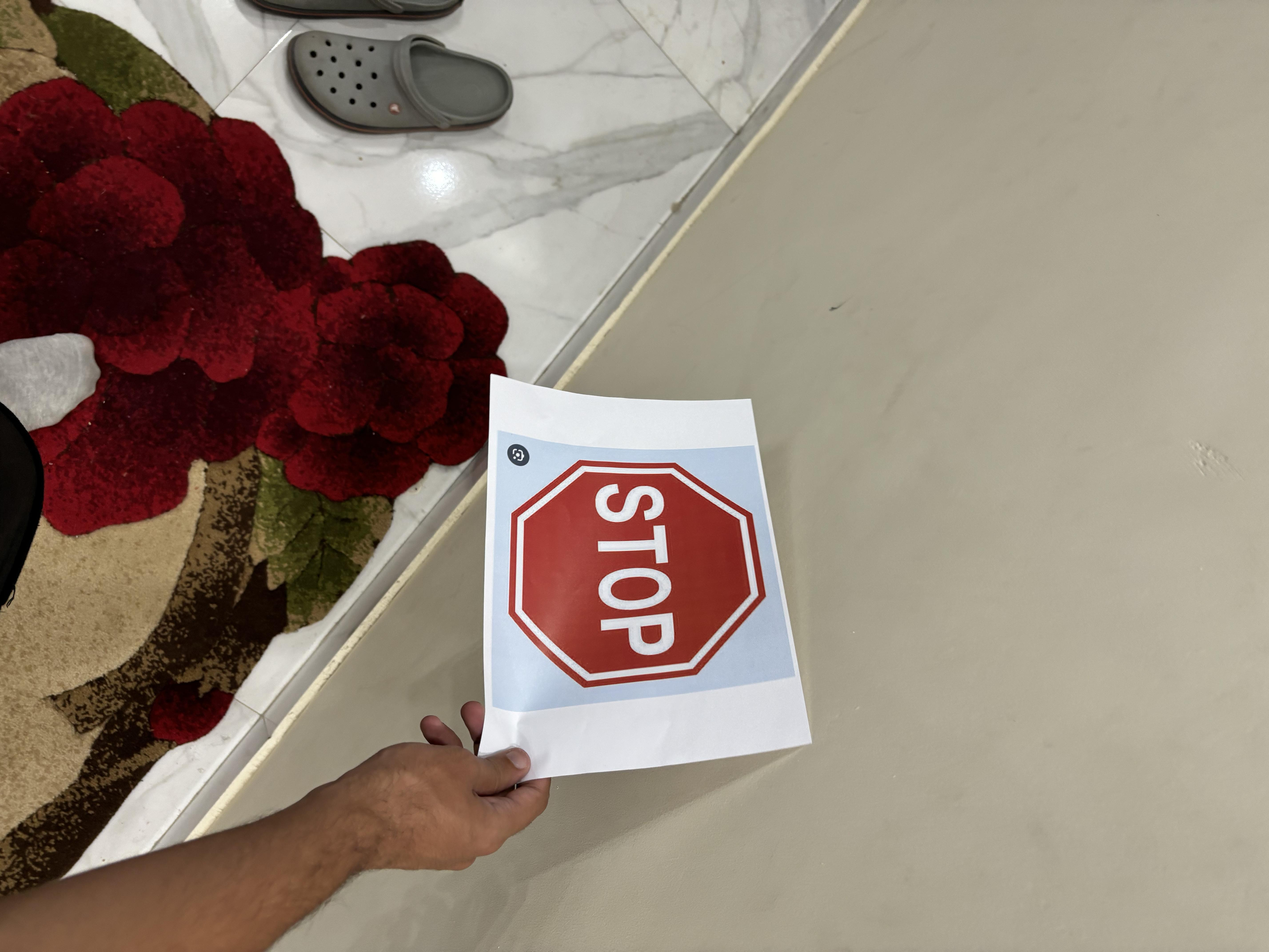Stop: (505, 452, 767, 689)
